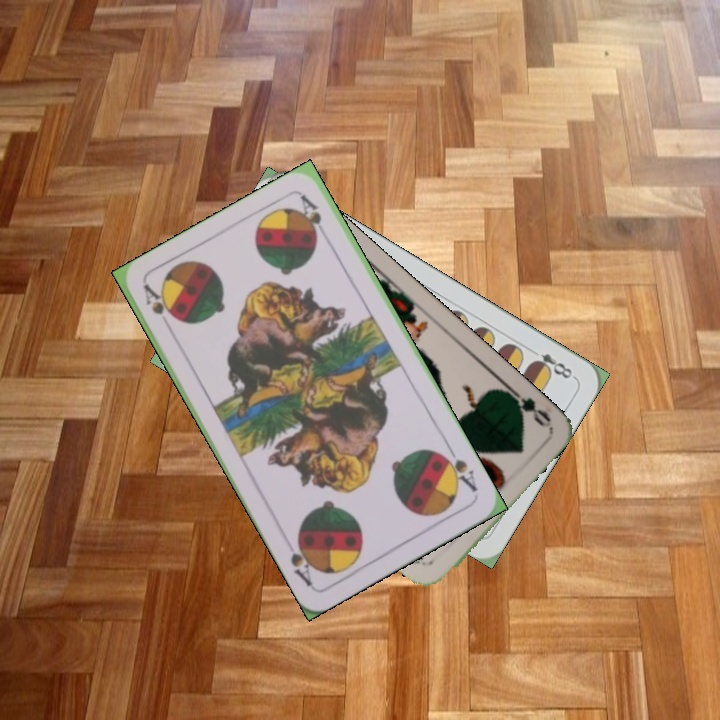E8: (526, 344, 578, 382)
GO: (502, 382, 554, 430)
SA: (436, 443, 481, 495), (139, 280, 176, 335)
